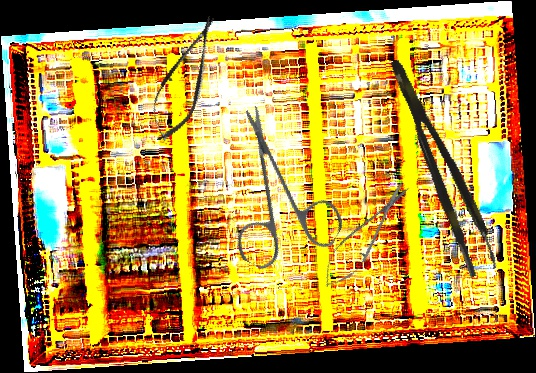Iris Scissors: (184, 103, 373, 294)
Micro Scissor: (313, 173, 419, 297), (139, 8, 231, 149)
Tissue Forceps: (386, 51, 502, 279)
